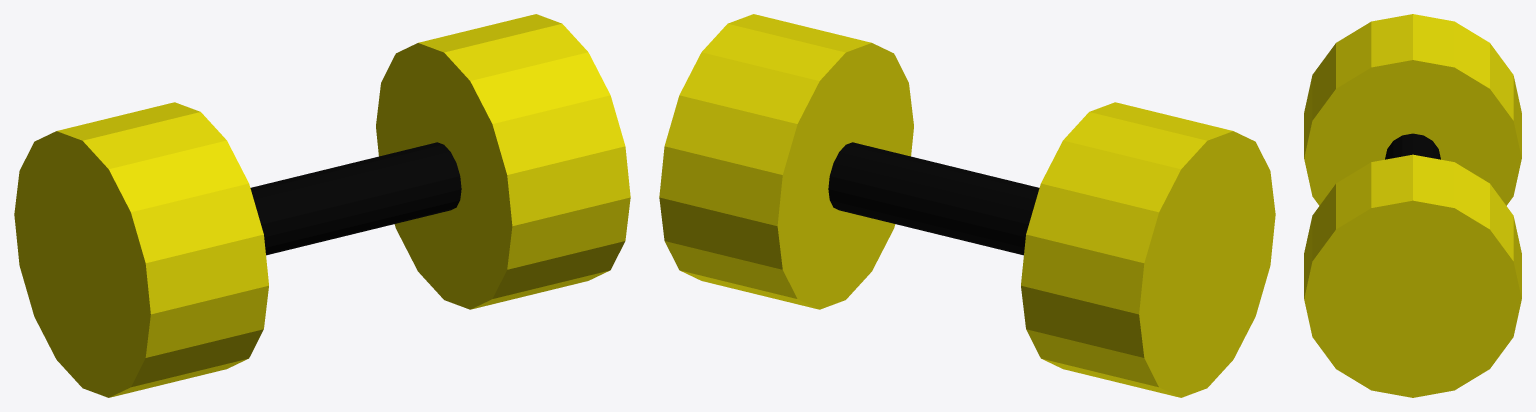
The model's file is Yellow dumbell.fbx.
3 views of the same model, side by side, from view 1: azimuth 30°, elevation 25°; view 2: azimuth 150°, elevation 25°; view 3: azimuth 270°, elevation 25° (orthographic). The views are drawn at different scales.
Visible parts, largest first — view 1: yellow.001, yellow, handle; view 2: yellow.001, yellow, handle; view 3: yellow, yellow.001, handle.
Boxes of the visible parts, <box> form: yellow.001: <box>14,102,268,397</box>; yellow: <box>376,14,630,309</box>; handle: <box>250,142,461,255</box>; yellow.001: <box>1021,102,1275,397</box>; yellow: <box>659,14,913,309</box>; handle: <box>828,142,1039,255</box>; yellow: <box>1304,154,1521,397</box>; yellow.001: <box>1304,14,1521,205</box>; handle: <box>1385,133,1440,159</box>.
Size of the model in its own units: 796 by 392 by 392.
